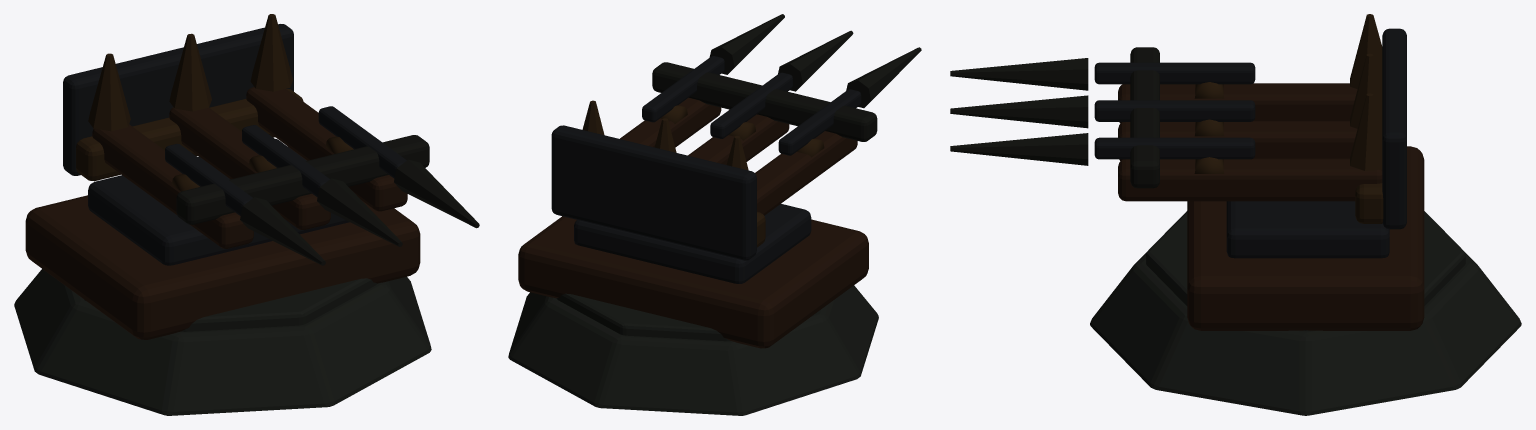
The model's file is TowerKing1.obj.
3 renders of one model, left to right at view 1: azimuth 30°, elevation 25°; view 2: azimuth 150°, elevation 25°; view 3: azimuth 270°, elevation 25°, orthographic. The views are drawn at different scales.
Visible parts, largest first — view 1: polished_stone_socket_lower_course, royal_oak_deck, iron_royal_mantle, iron_royal_turntable, royal_bow_stock, royal_bow_stock.002, royal_bow_stock.001, polished_stone_socket_upper_course, bronze_crown_rail, royal_bow_limb, royal_bolt.002, royal_bolt (+9 smaller); view 2: polished_stone_socket_lower_course, royal_oak_deck, iron_royal_mantle, iron_royal_turntable, royal_bow_stock, polished_stone_socket_upper_course, royal_bow_limb, royal_bow_stock.001, royal_bow_stock.002, royal_iron_guide, royal_iron_guide.001, royal_iron_guide.002 (+8 smaller); view 3: polished_stone_socket_lower_course, royal_oak_deck, royal_bow_stock.002, iron_royal_turntable, royal_bow_stock, royal_bow_stock.001, iron_royal_mantle, polished_stone_socket_upper_course, royal_iron_guide.002, royal_iron_guide, royal_iron_guide.001, royal_bolt (+9 smaller).
Part boxes in pixels (left/top/right/bottom): polished_stone_socket_lower_course: left=14, top=269, right=431, bottom=415; royal_oak_deck: left=25, top=146, right=420, bottom=339; iron_royal_mantle: left=63, top=24, right=293, bottom=175; iron_royal_turntable: left=88, top=139, right=349, bottom=265; royal_bow_stock: left=92, top=124, right=253, bottom=248; royal_bow_stock.002: left=246, top=87, right=407, bottom=211; royal_bow_stock.001: left=169, top=107, right=330, bottom=230; polished_stone_socket_upper_course: left=84, top=278, right=377, bottom=331; bronze_crown_rail: left=76, top=89, right=303, bottom=181; royal_bow_limb: left=176, top=172, right=272, bottom=224; royal_bolt.002: left=394, top=159, right=479, bottom=228; royal_bolt: left=240, top=197, right=325, bottom=265; polished_stone_socket_lower_course: left=508, top=285, right=878, bottom=415; royal_oak_deck: left=518, top=216, right=868, bottom=348; iron_royal_mantle: left=551, top=125, right=756, bottom=260; iron_royal_turntable: left=574, top=204, right=811, bottom=283; royal_bow_stock: left=755, top=131, right=857, bottom=215; polished_stone_socket_upper_course: left=556, top=293, right=816, bottom=341; royal_bow_limb: left=792, top=95, right=877, bottom=141; royal_bow_stock.001: left=688, top=114, right=789, bottom=164; royal_bow_stock.002: left=620, top=97, right=721, bottom=147; royal_iron_guide: left=778, top=89, right=861, bottom=155; royal_iron_guide.001: left=710, top=72, right=792, bottom=138; royal_iron_guide.002: left=642, top=56, right=724, bottom=122; polished_stone_socket_lower_course: left=1090, top=227, right=1521, bottom=415; royal_oak_deck: left=1187, top=146, right=1424, bottom=330; royal_bow_stock.002: left=1118, top=158, right=1382, bottom=201; iron_royal_turntable: left=1226, top=201, right=1389, bottom=258; royal_bow_stock: left=1118, top=83, right=1357, bottom=123; royal_bow_stock.001: left=1118, top=121, right=1357, bottom=160; iron_royal_mantle: left=1382, top=28, right=1406, bottom=229; polished_stone_socket_upper_course: left=1146, top=211, right=1465, bottom=330; royal_iron_guide.002: left=1094, top=137, right=1255, bottom=159; royal_iron_guide: left=1094, top=62, right=1255, bottom=84; royal_iron_guide.001: left=1094, top=100, right=1255, bottom=121; royal_bolt: left=950, top=58, right=1088, bottom=90.
Bounding box in the file's own units: 1.75 × 1.21 × 2.31.
